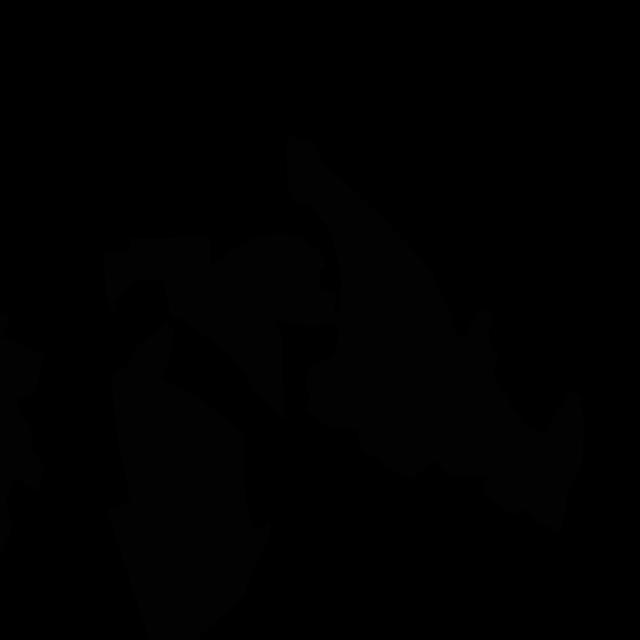cardboard: (286, 134, 513, 481), (107, 322, 271, 640), (178, 233, 339, 420), (482, 389, 584, 534), (0, 311, 44, 555), (104, 237, 212, 319)
